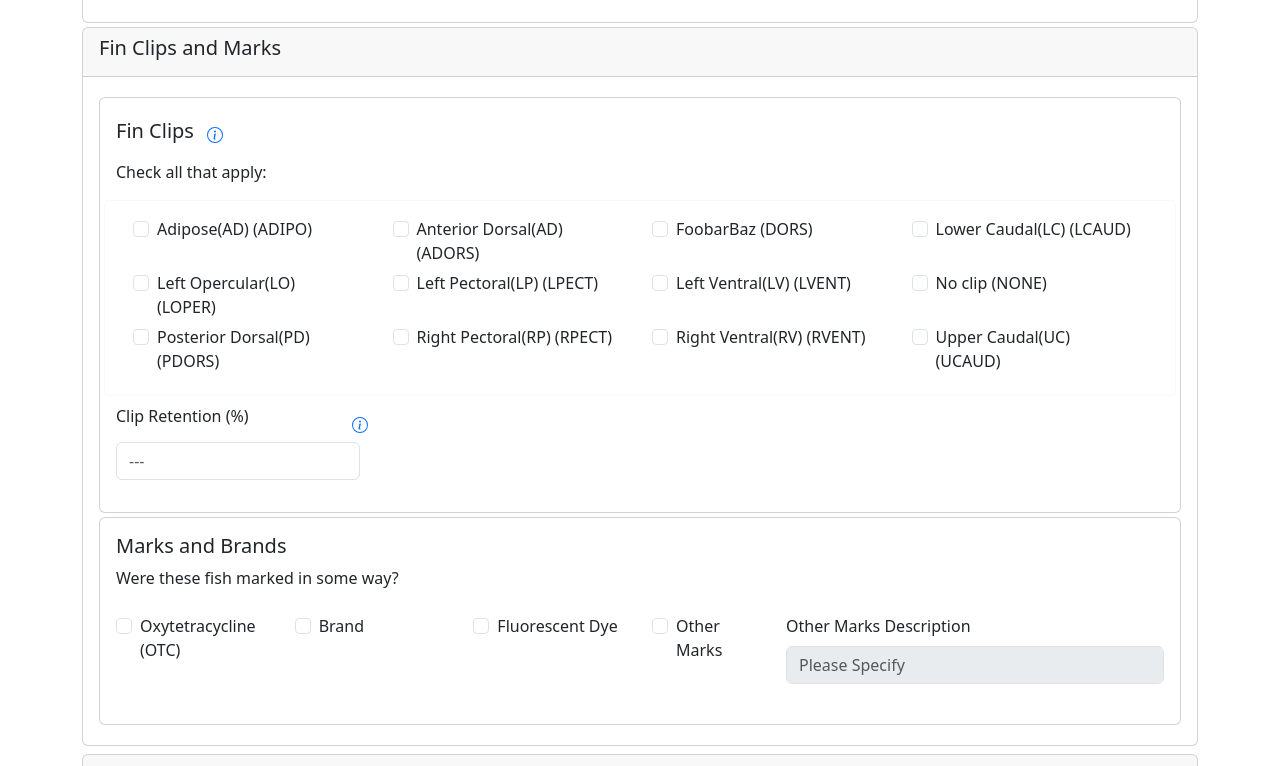
Test: Fin Clip › that fin clip 12 is not allowed.
(page scrolled)
Step 1. Click the checkbox labelled "Right Pectoral(RP) (RPECT)" → (400, 337), box [392,329,408,345]
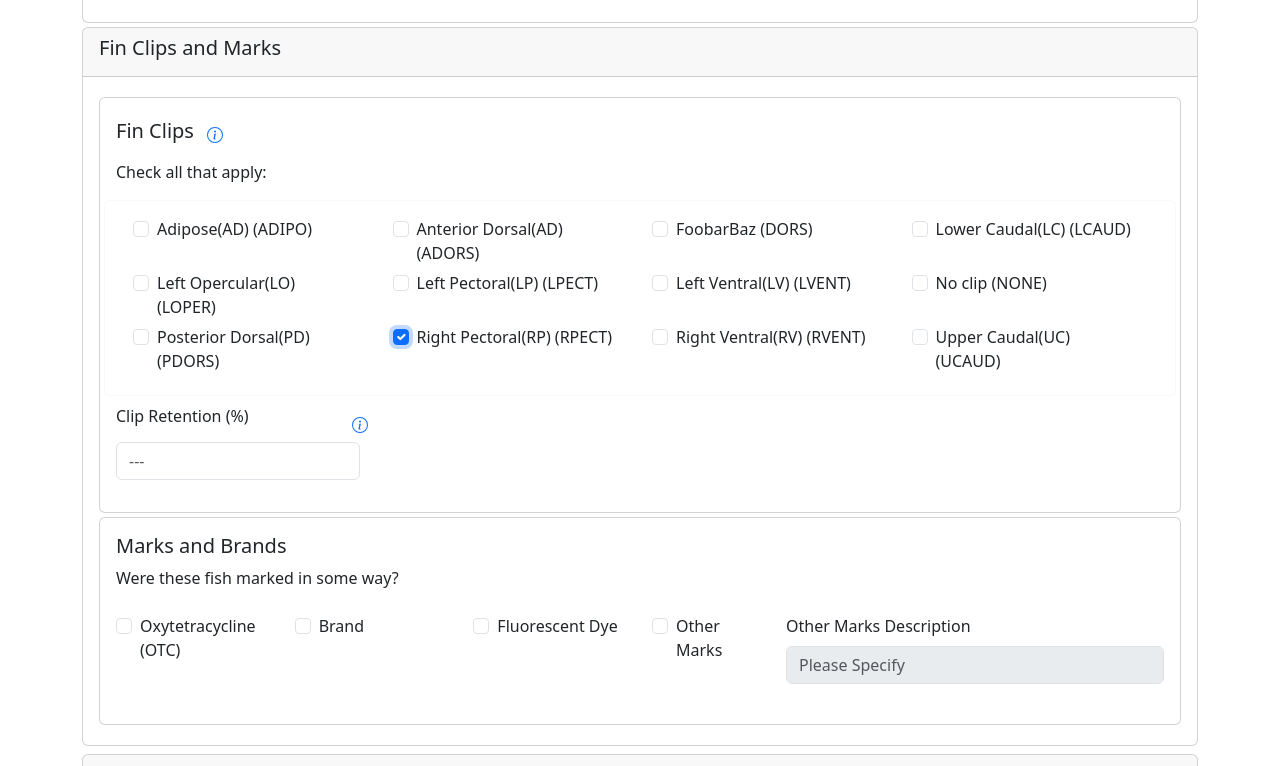
Step 2. Click the checkbox labelled "Left Pectoral(LP) (LPECT)" → (400, 283), box [392,275,408,291]
(page scrolled)
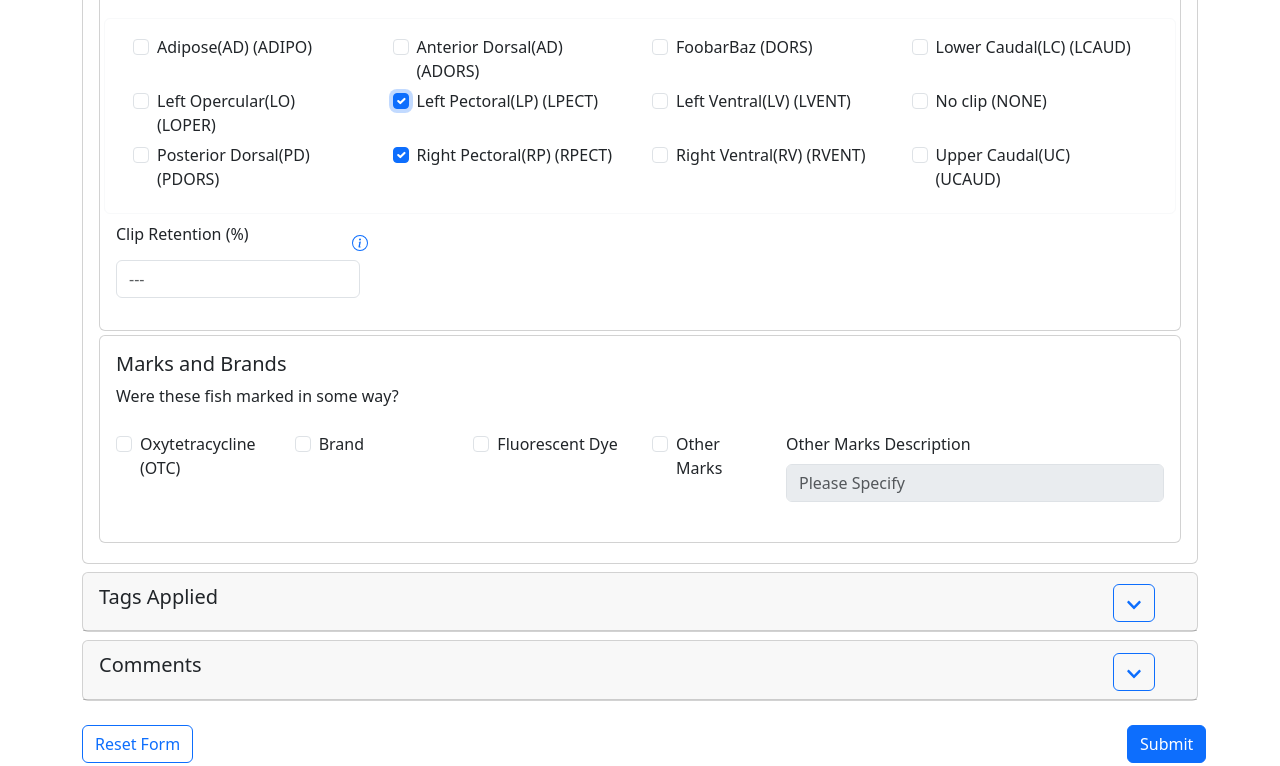
Step 3. Click the button "Submit" → (1167, 744), box [1127,725,1206,763]
(page scrolled)
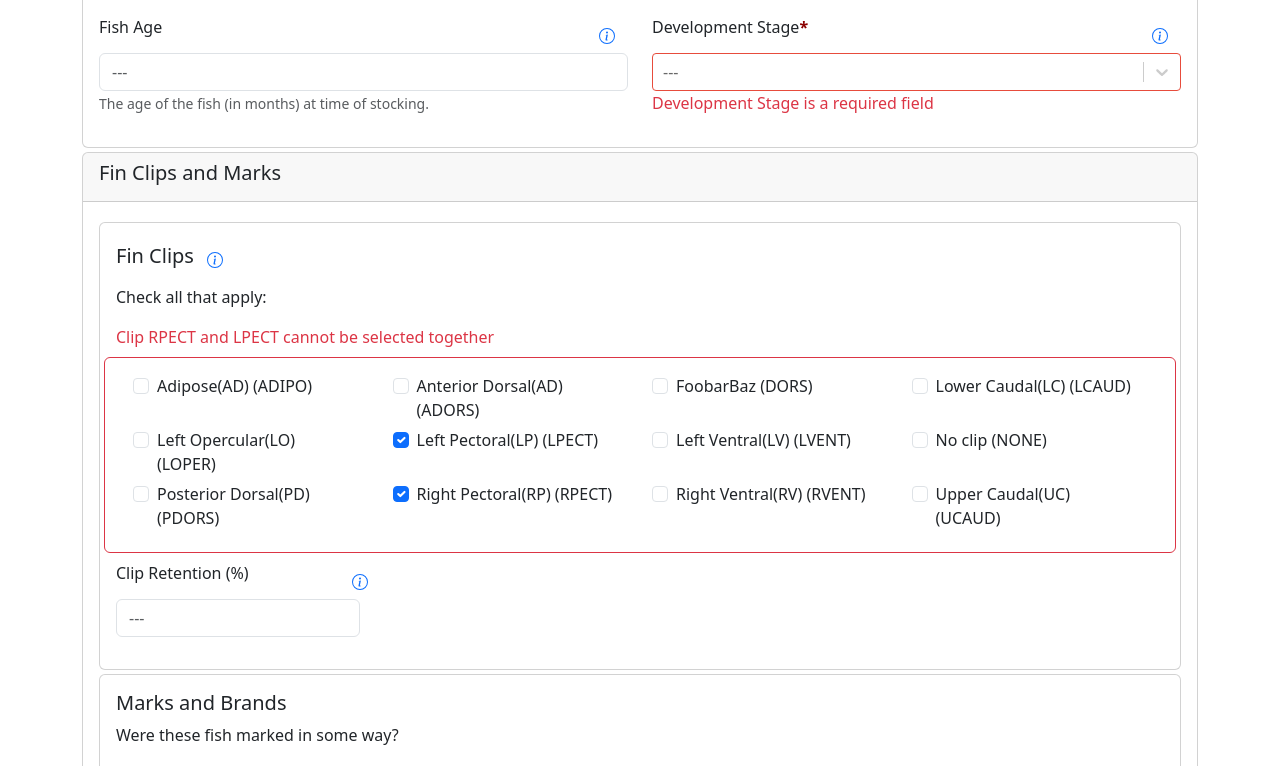
Now the text "Clip RPECT and LPECT cannot be selected together" is shown, box [116,326,494,348]
